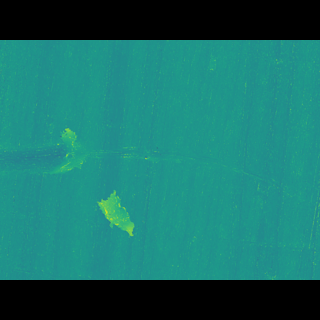Loch: (0, 135, 184, 173), (92, 180, 140, 219)
